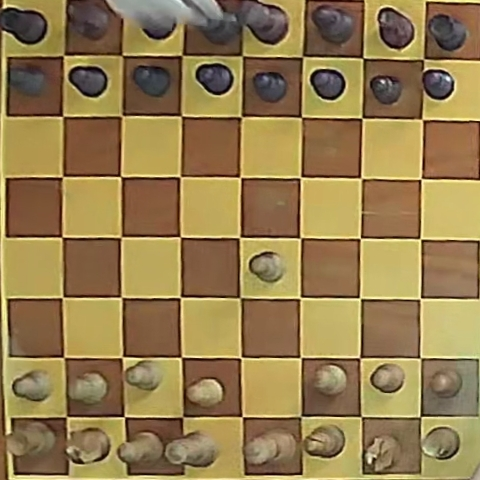black-bishop: (311, 5, 355, 44)
black-king: (234, 1, 287, 44)
black-knight: (68, 1, 111, 40), (377, 7, 414, 48)
black-pawn: (195, 64, 233, 96), (133, 65, 171, 97), (69, 66, 107, 97), (9, 65, 47, 96), (310, 69, 346, 100), (252, 71, 287, 102), (422, 69, 455, 100), (370, 75, 402, 105)
black-queen: (191, 7, 241, 45)
black-rook: (0, 6, 46, 45), (426, 13, 468, 52)
white-bishop: (118, 431, 164, 465), (305, 424, 345, 457)
white-king: (245, 429, 298, 465)
white-knight: (65, 427, 111, 464), (364, 435, 400, 472)
white-pawn: (69, 372, 109, 405), (12, 370, 51, 401), (186, 378, 224, 407), (125, 360, 161, 390), (313, 364, 347, 395), (371, 363, 405, 393), (250, 252, 284, 282), (429, 368, 462, 398)
white-queen: (164, 431, 219, 466)
white-rook: (7, 422, 55, 457), (421, 427, 459, 459)
